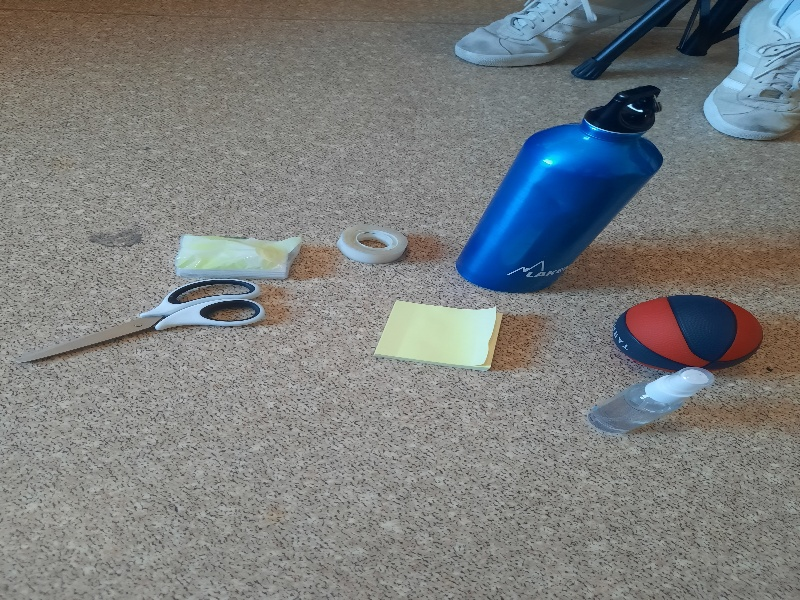ballon: (612, 294, 762, 370)
ciseaux: (24, 278, 267, 365)
gel: (585, 368, 722, 435)
gourde: (455, 84, 681, 294)
mouchoirs: (174, 236, 305, 278)
post-it: (370, 302, 517, 373)
scotch: (335, 227, 411, 263)
